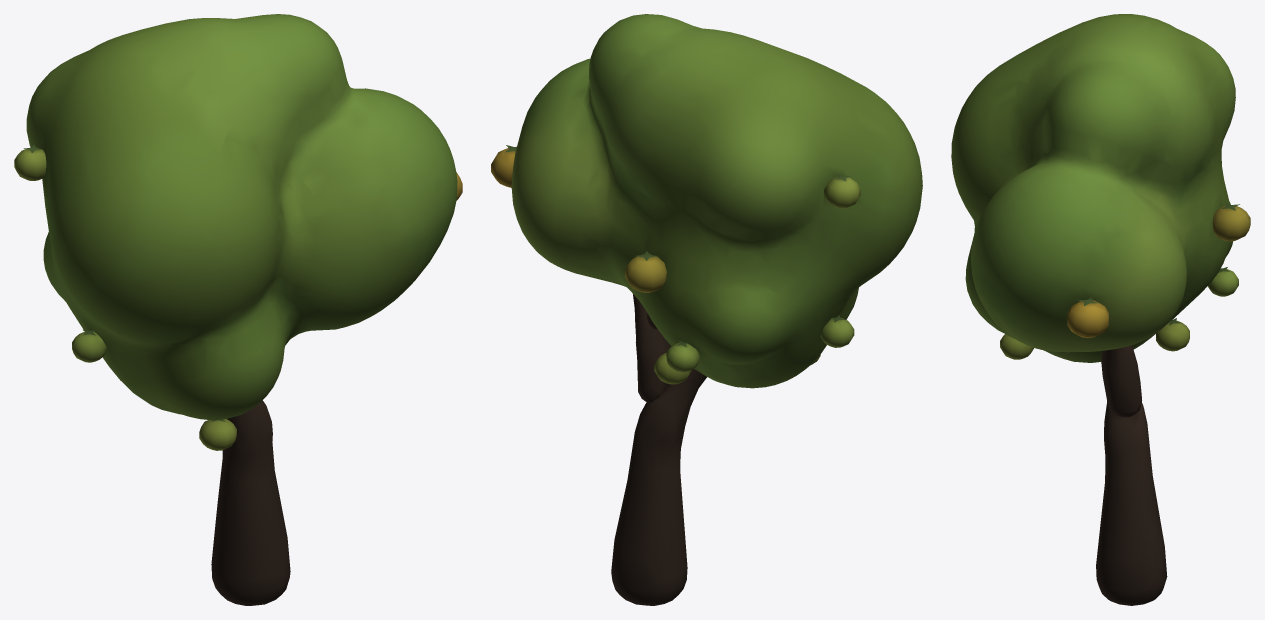
The model's file is tree_09_3.glb.
3 views of the same model, side by side, from view 1: azimuth 30°, elevation 25°; view 2: azimuth 150°, elevation 25°; view 3: azimuth 270°, elevation 25° (orthographic). The views are drawn at different scales.
Parts seen in each view (by area): view 1: canopy, bark, blooms; view 2: canopy, bark, blooms; view 3: canopy, bark, blooms.
Part boxes in pixels (x1,y1,x2,y2): canopy: (26,14,457,420); bark: (211,400,290,605); blooms: (14,145,462,450); canopy: (511,14,922,388); bark: (611,294,706,605); blooms: (491,145,860,384); canopy: (951,14,1235,362); bark: (1096,345,1167,605); blooms: (1000,202,1250,359).
Bounding box in the file's own units: 2.14 × 2.94 × 1.49.
